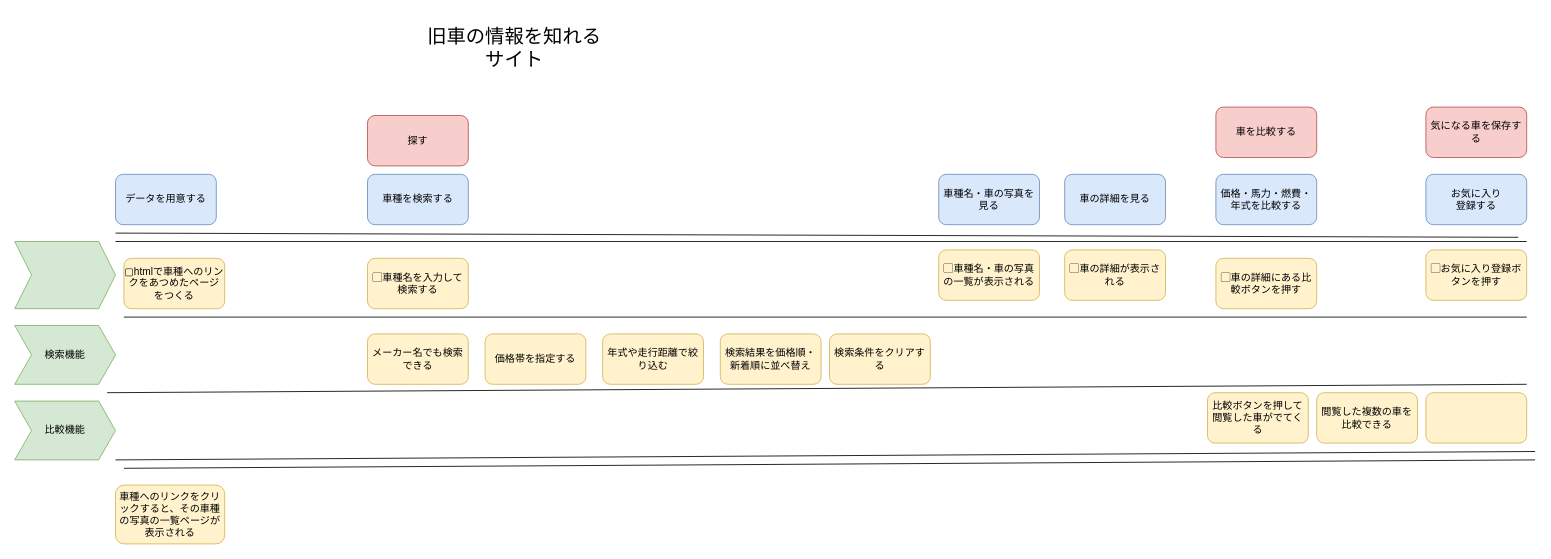
Image size: 1551x559. Some labels were removed from this diagram. Here are the shapes that lost their labels. From the top down, the box of each, then its label:
(14, 241, 116, 309): ウォーキングスケルトン
(1425, 392, 1527, 443): お気に入り一覧から登録した車も比較できる
